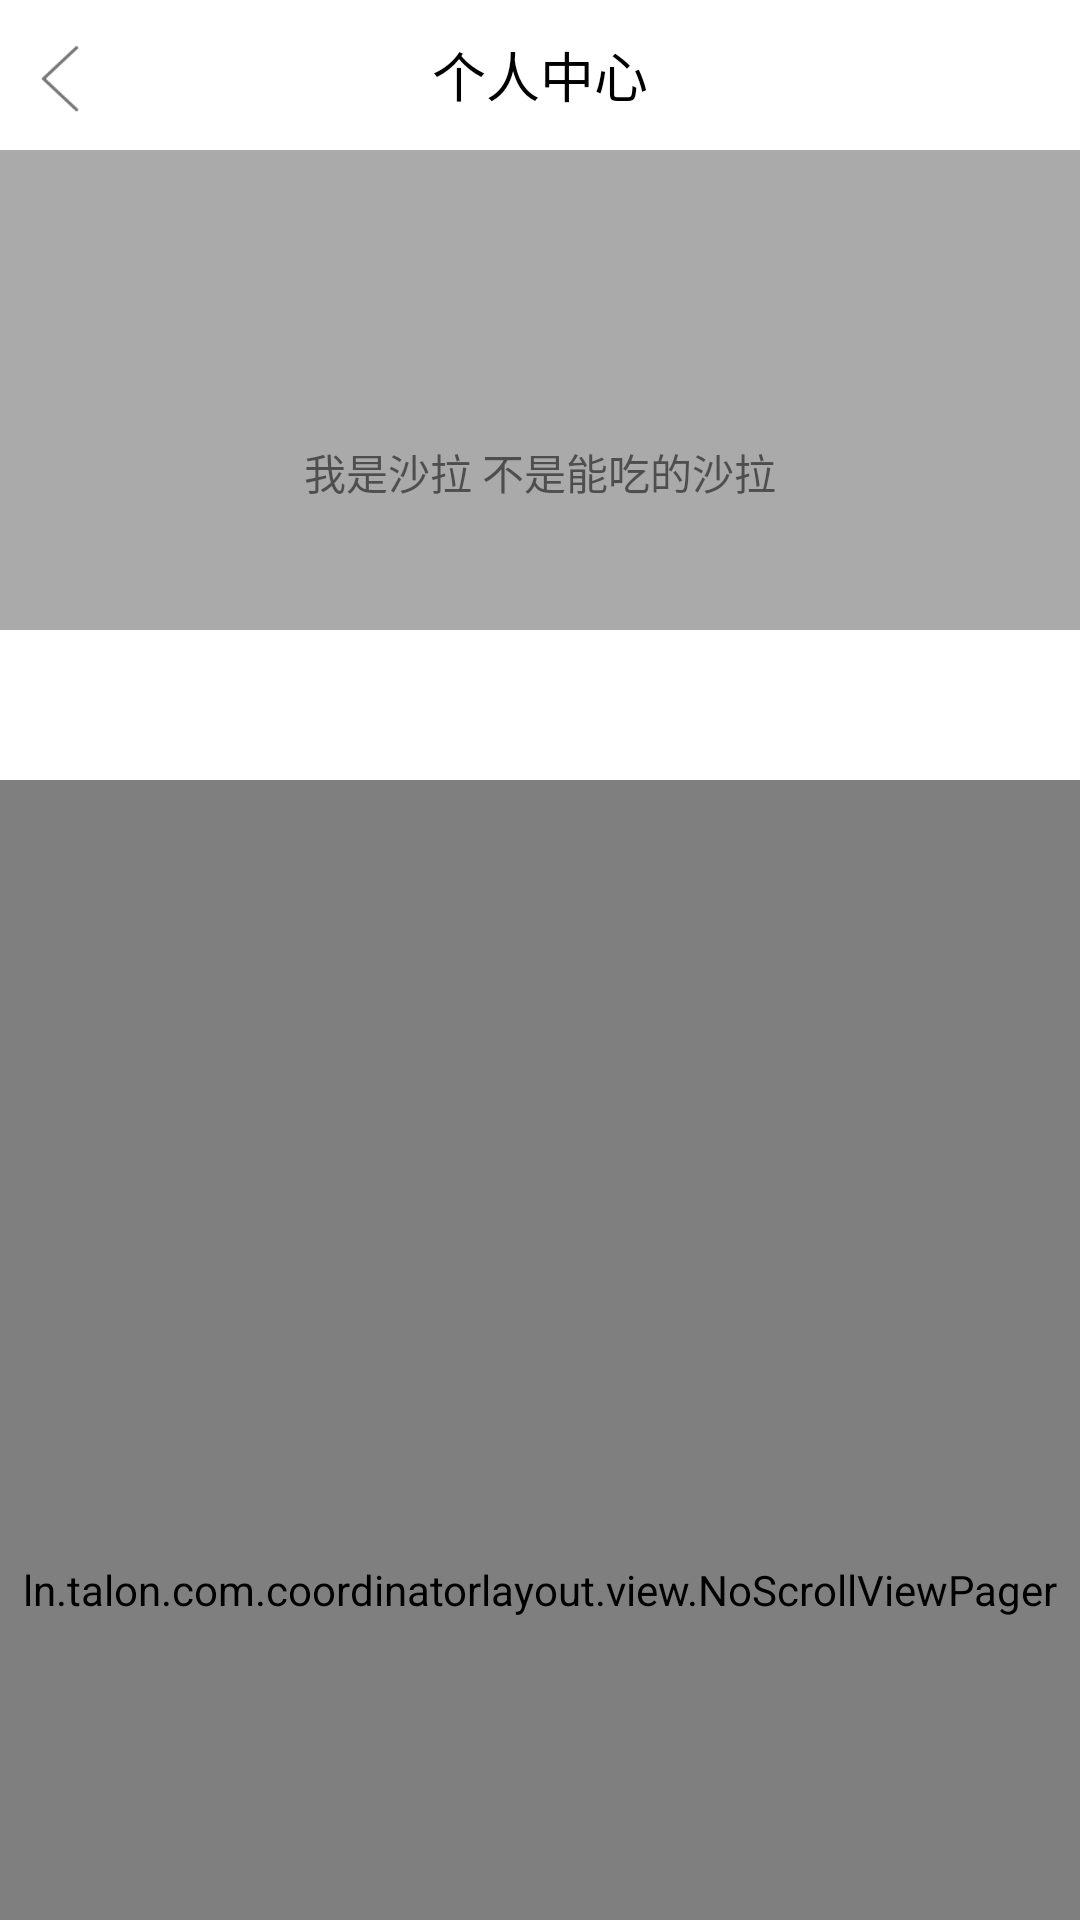

Named icons in this screenshot (1080 × 1920) and their centers, [x,y]:
back: [60,79]
